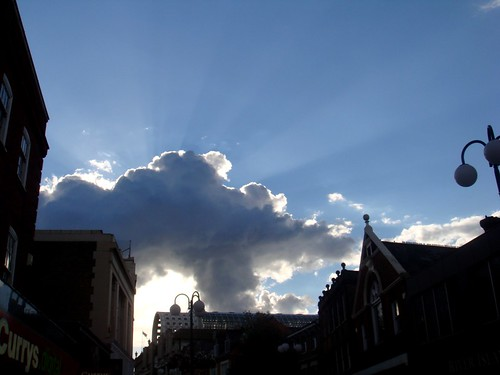building: (1, 6, 52, 375), (347, 237, 460, 375), (33, 238, 138, 375), (311, 266, 359, 375)
light pole: (168, 285, 204, 375)
sky: (51, 2, 489, 264)
